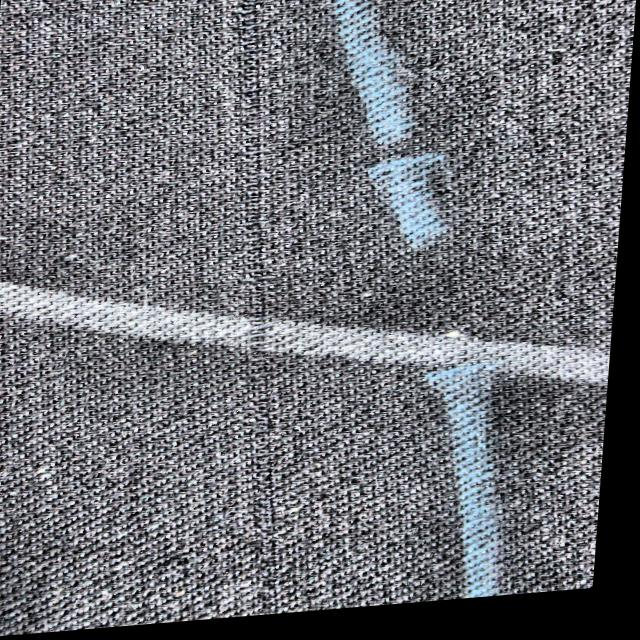Hole: (234, 0, 286, 565)
